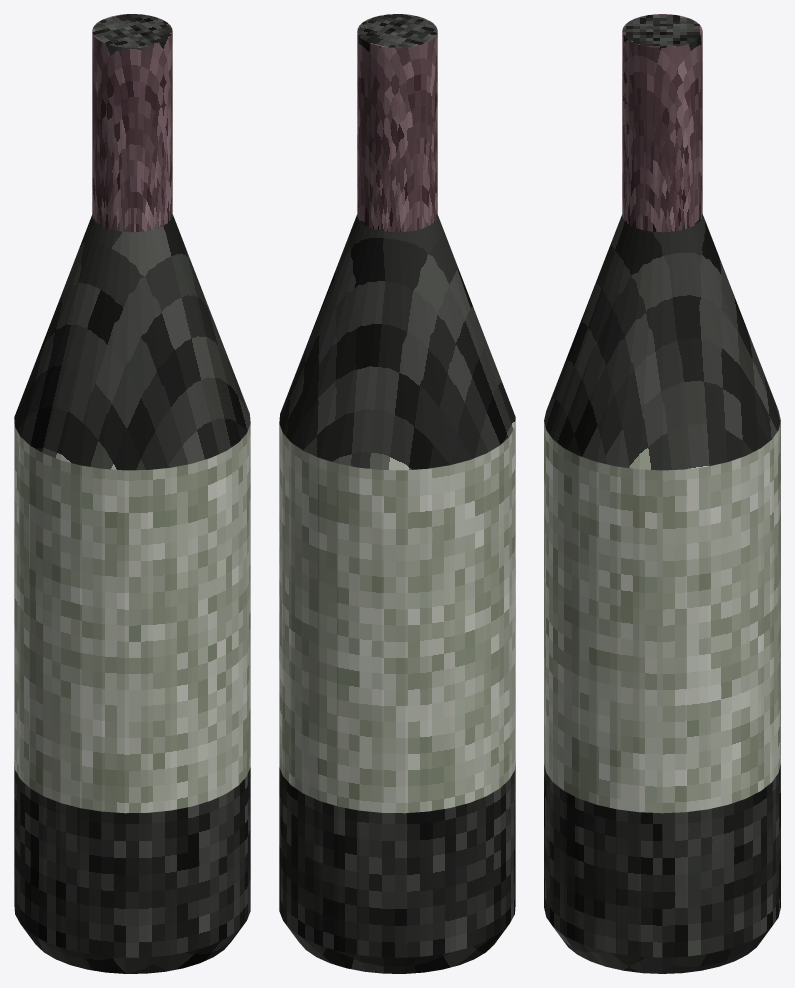
File: wine_bottle.glb
3 views of the same model, side by side, from view 1: azimuth 30°, elevation 25°; view 2: azimuth 150°, elevation 25°; view 3: azimuth 270°, elevation 25° (orthographic).
Parts seen in each view (by area): view 1: Cylinder; view 2: Cylinder; view 3: Cylinder.
Boxes of the visible parts, box(x1,y1,x2,y2) form: Cylinder: box(14, 14, 250, 973); Cylinder: box(279, 14, 515, 973); Cylinder: box(544, 14, 780, 973).
Bounding box in the file's own units: 1 × 4.19 × 1.
1 material, 1 textured.
